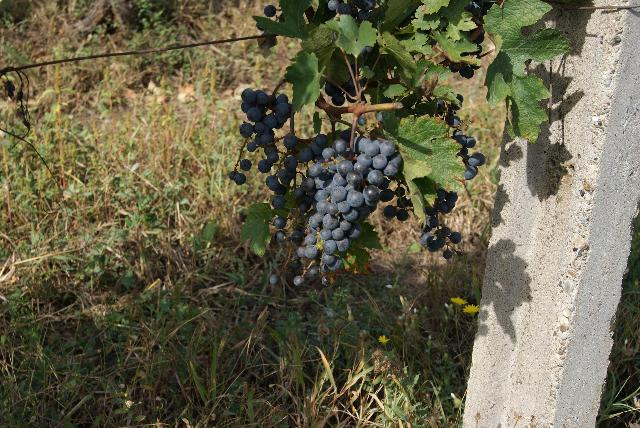grapes: (299, 136, 401, 276), (229, 89, 290, 184), (271, 134, 314, 261)
